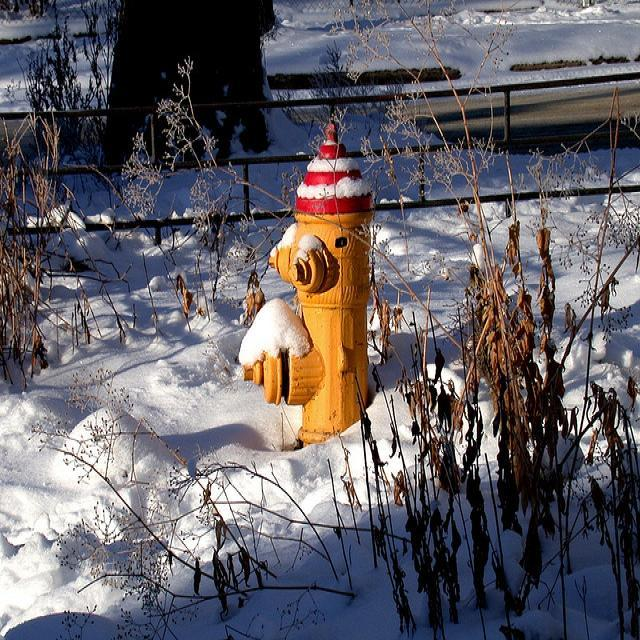fire_hydrant: (242, 118, 375, 450)
